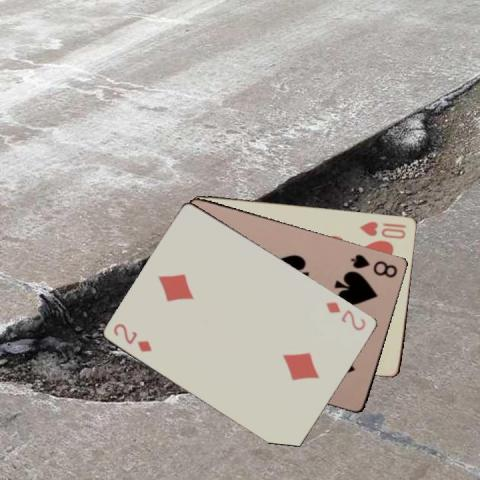10h: (357, 218, 407, 240)
2d: (111, 320, 154, 354), (324, 299, 368, 332)
8s: (348, 251, 399, 279)
